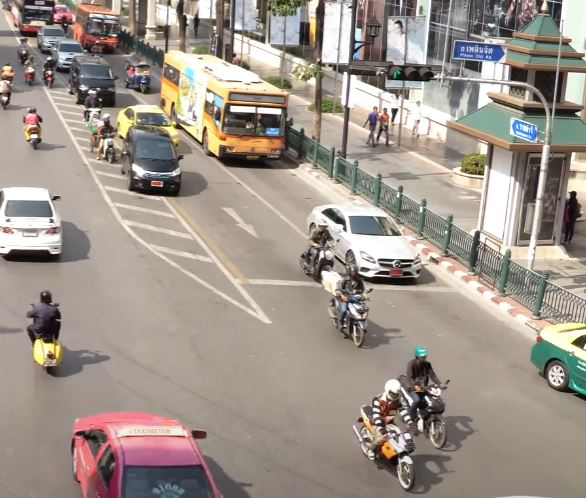Bus: (161, 46, 290, 163), (74, 2, 119, 54), (10, 1, 56, 33)
Car: (70, 409, 226, 498), (306, 201, 423, 285), (1, 184, 66, 262), (124, 124, 182, 194), (120, 106, 180, 147), (72, 56, 117, 106), (54, 40, 83, 68), (41, 25, 66, 52)
Motorcycle: (350, 379, 418, 491), (397, 344, 454, 449), (25, 288, 69, 377), (328, 263, 371, 345), (297, 220, 334, 284), (20, 104, 49, 150), (96, 113, 118, 161), (81, 89, 100, 121), (21, 55, 38, 84), (1, 75, 12, 109), (44, 57, 56, 85), (18, 37, 30, 60), (2, 59, 13, 79)
TukTuk: (124, 57, 151, 94)
